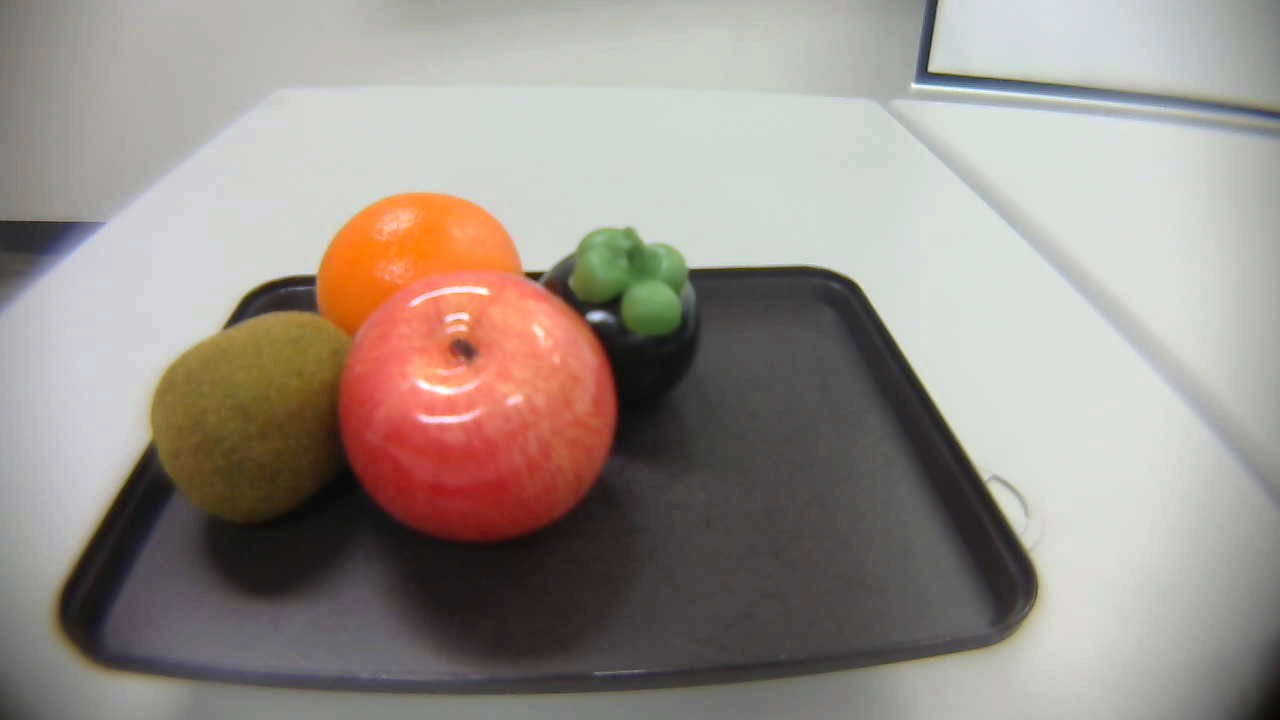kiwi fruit: (145, 298, 362, 526)
mangosteen: (520, 225, 714, 402)
orange: (310, 184, 532, 348)
red apple: (338, 266, 632, 546)
